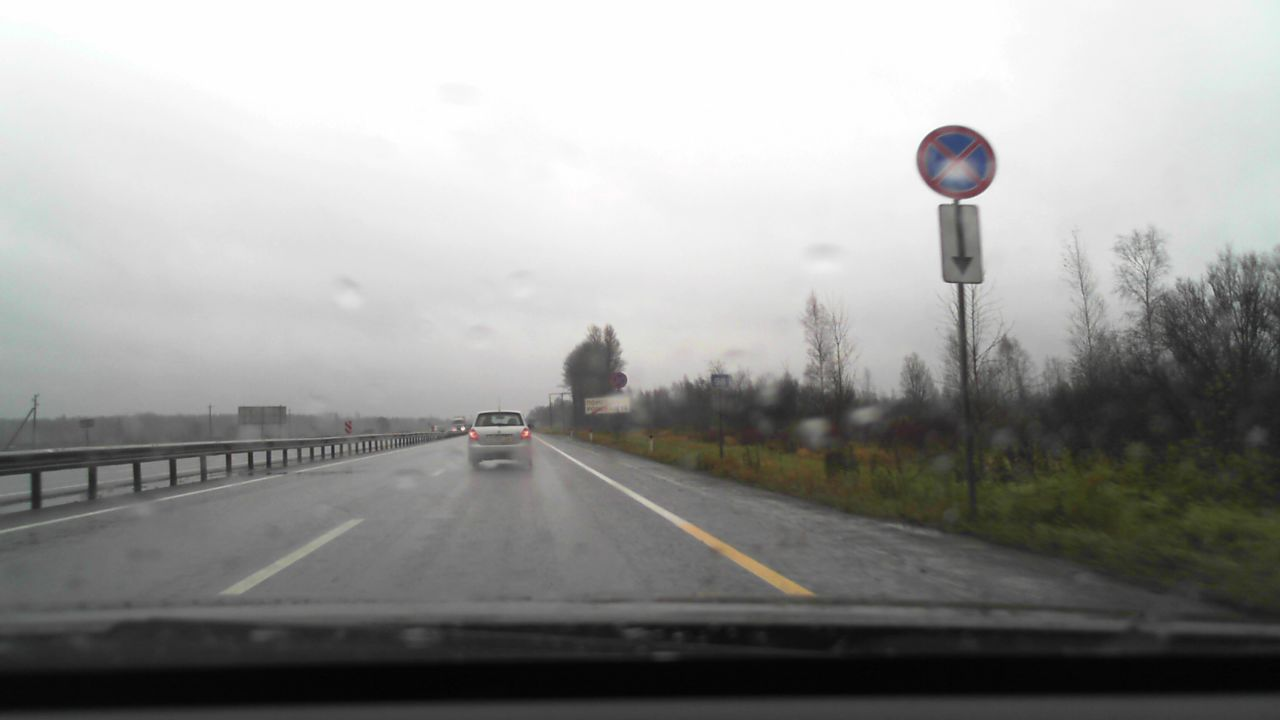No Parking: (916, 126, 996, 199)
